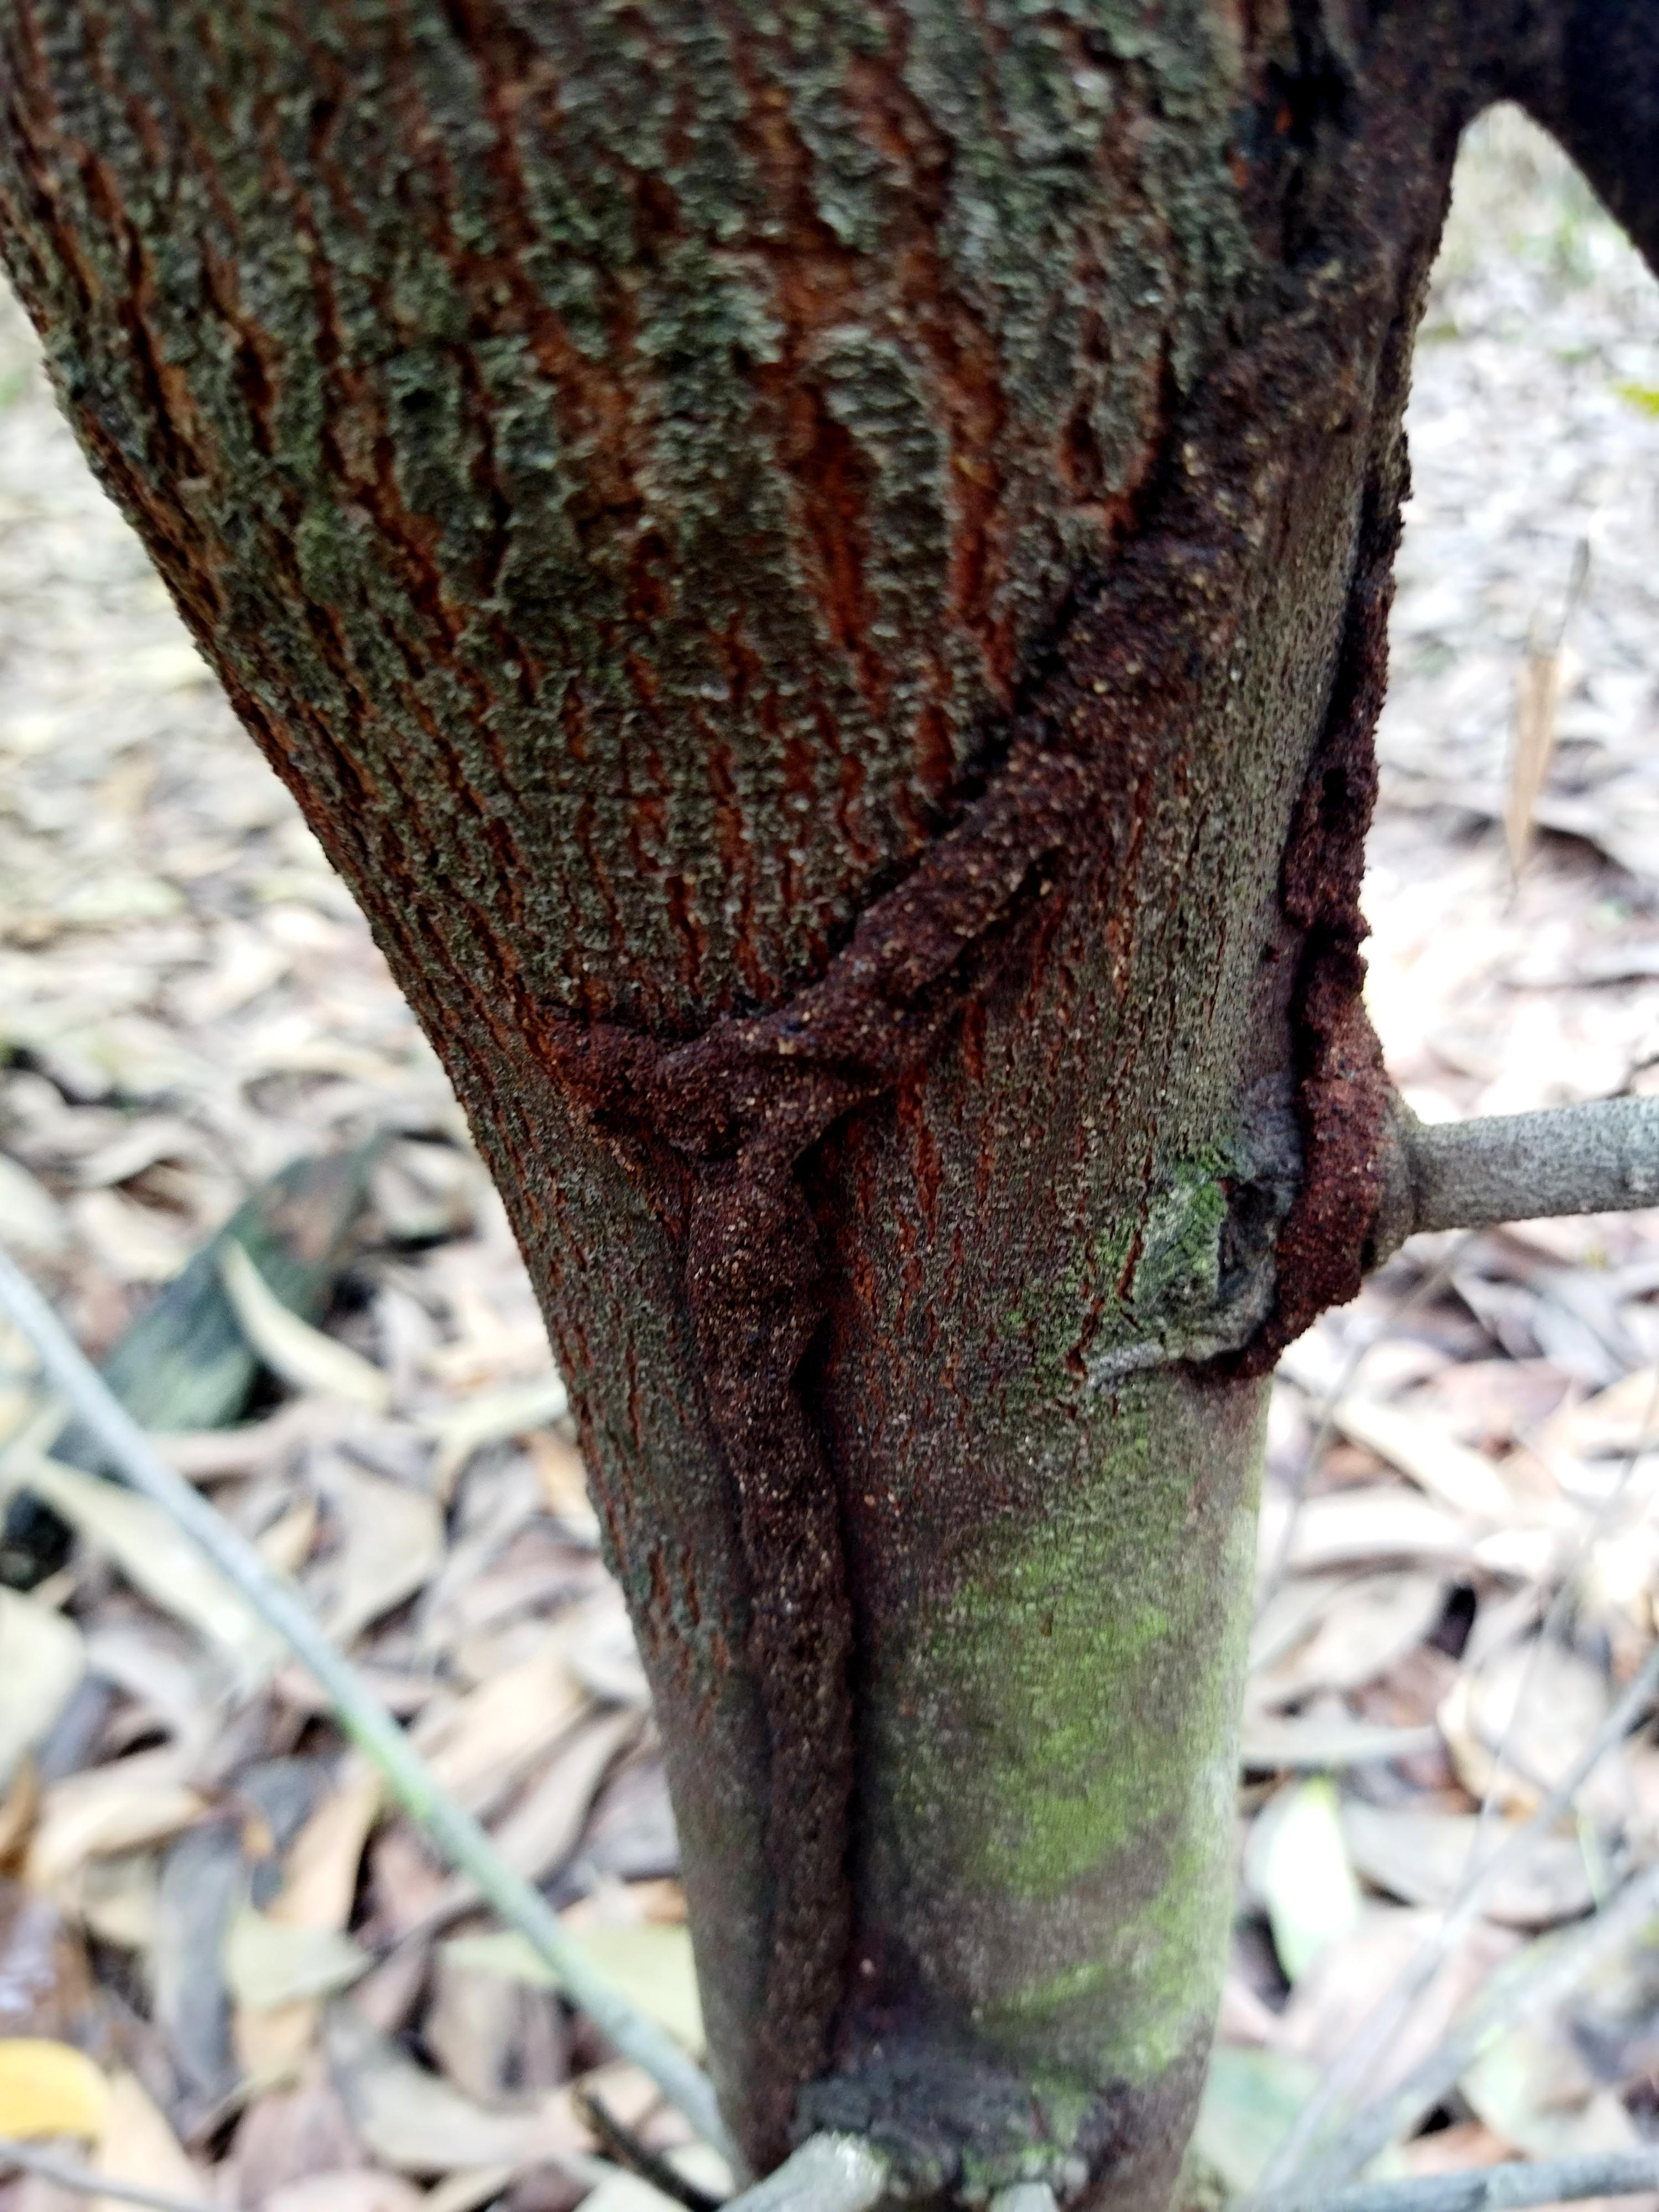Stem Deformation: (7, 0, 1014, 667)
Termite - Nest: (537, 836, 1014, 2114), (1030, 0, 1377, 845)
